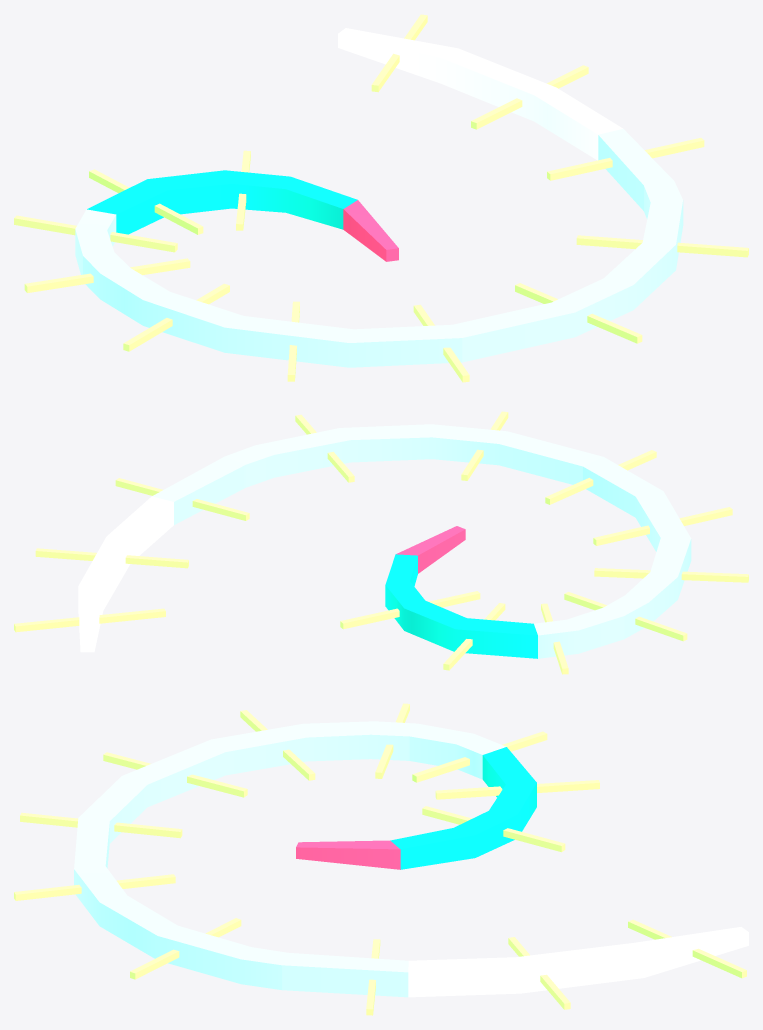
Rendered from latigo_glow_01.fbx.
The picture shows the model from 3 angles, top to bottom: view 1: azimuth 30°, elevation 25°; view 2: azimuth 150°, elevation 25°; view 3: azimuth 270°, elevation 25°; orthographic projection. The views are drawn at different scales.
Visible parts, largest first — view 1: pCube173; view 2: pCube173; view 3: pCube173.
Part boxes in pixels (x1,y1,x2,y2): pCube173: (14, 14, 748, 382); pCube173: (14, 411, 748, 674); pCube173: (14, 703, 748, 1015).
Bounding box in the file's own units: 26.24 × 1 × 26.66.
